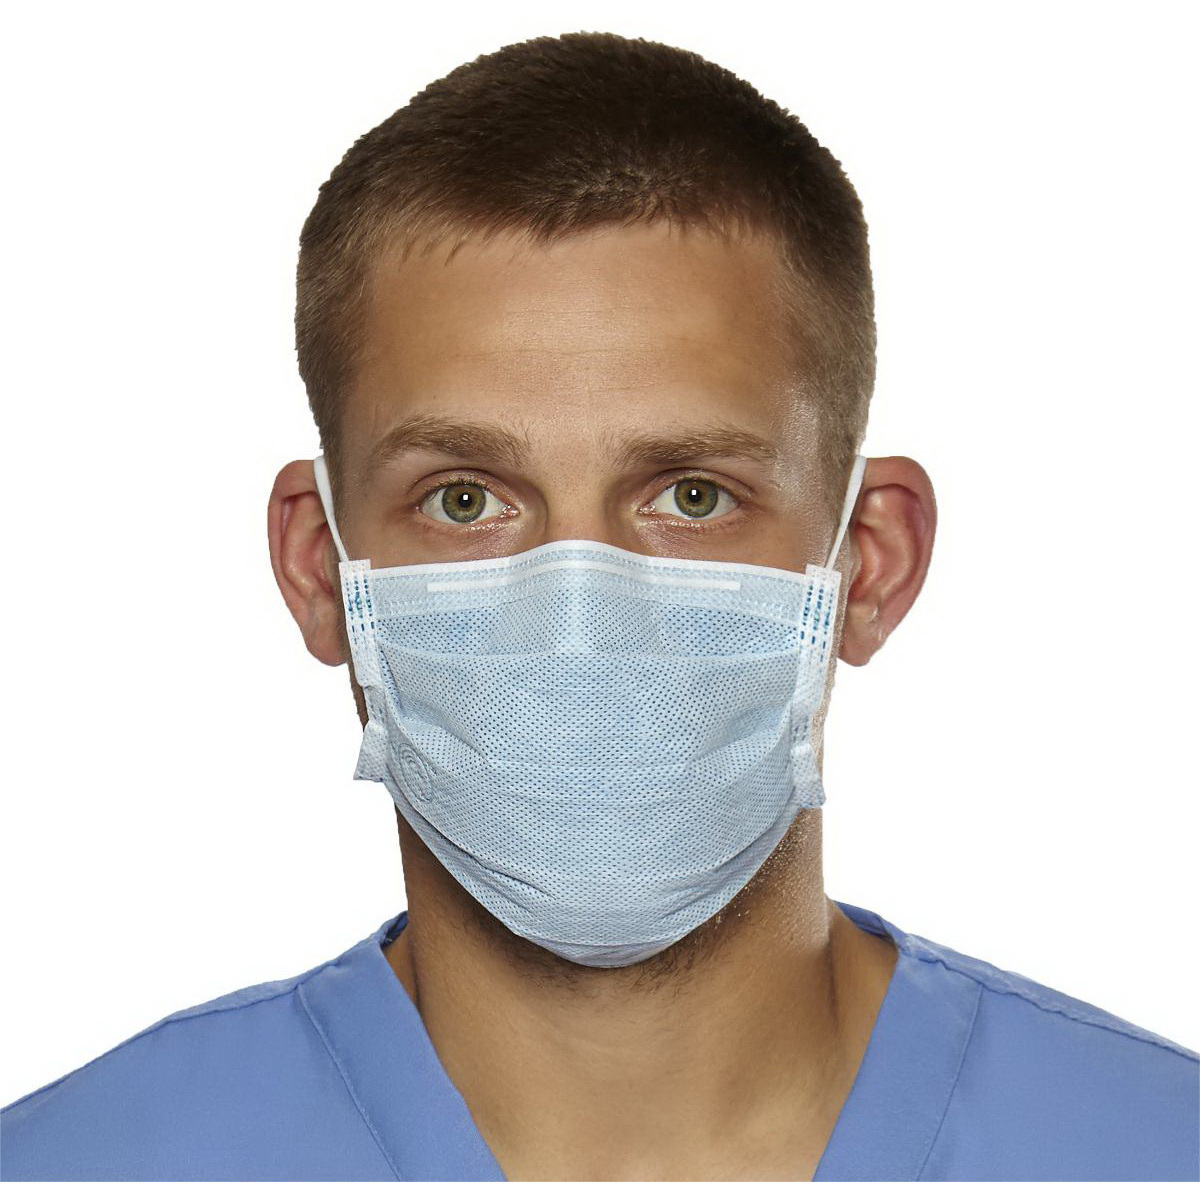surgical: (310, 546, 842, 965)
